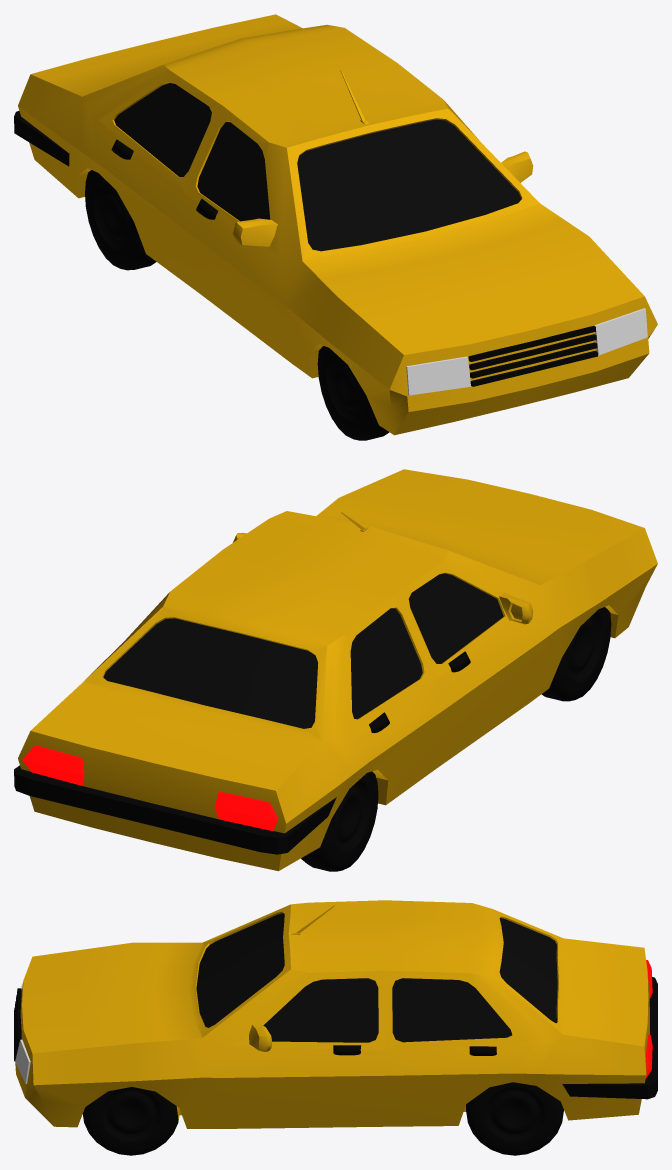
The model's file is Taxi.fbx.
The picture shows the model from 3 angles, top to bottom: view 1: azimuth 30°, elevation 25°; view 2: azimuth 150°, elevation 25°; view 3: azimuth 270°, elevation 25°; orthographic projection. The views are drawn at different scales.
Parts seen in each view (by area): view 1: Transport4, Transport4_TransportPack_0.011, Transport4_TransportPack_0.008, Transport4_TransportPack_0.009, Transport4_TransportPack_0.010, Transport4_TransportPack_0.005; view 2: Transport4, Transport4_TransportPack_0.005, Transport4_TransportPack_0.011, Transport4_TransportPack_0.010, Transport4_TransportPack_0.006; view 3: Transport4, Transport4_TransportPack_0.001, Transport4_TransportPack_0.007, Transport4_TransportPack_0.005, Transport4_TransportPack_0.009, Transport4_TransportPack_0.008, Transport4_TransportPack_0.006.
Boxes of the visible parts, box(x1,y1,x2,y2) form: Transport4: box(18, 14, 657, 435); Transport4_TransportPack_0.011: box(85, 170, 156, 270); Transport4_TransportPack_0.008: box(406, 308, 647, 395); Transport4_TransportPack_0.009: box(468, 326, 597, 386); Transport4_TransportPack_0.010: box(317, 346, 389, 440); Transport4_TransportPack_0.005: box(14, 111, 69, 166); Transport4: box(18, 469, 657, 871); Transport4_TransportPack_0.005: box(14, 765, 336, 854); Transport4_TransportPack_0.011: box(301, 771, 378, 871); Transport4_TransportPack_0.010: box(541, 607, 611, 701); Transport4_TransportPack_0.006: box(22, 745, 278, 830); Transport4: box(15, 900, 649, 1128); Transport4_TransportPack_0.001: box(466, 1082, 563, 1155); Transport4_TransportPack_0.007: box(83, 1087, 178, 1155); Transport4_TransportPack_0.005: box(562, 977, 657, 1099); Transport4_TransportPack_0.009: box(14, 988, 21, 1061); Transport4_TransportPack_0.008: box(15, 980, 30, 1083); Transport4_TransportPack_0.006: box(645, 960, 652, 1078).
Size of the model in its own units: 148 by 118 by 335.
